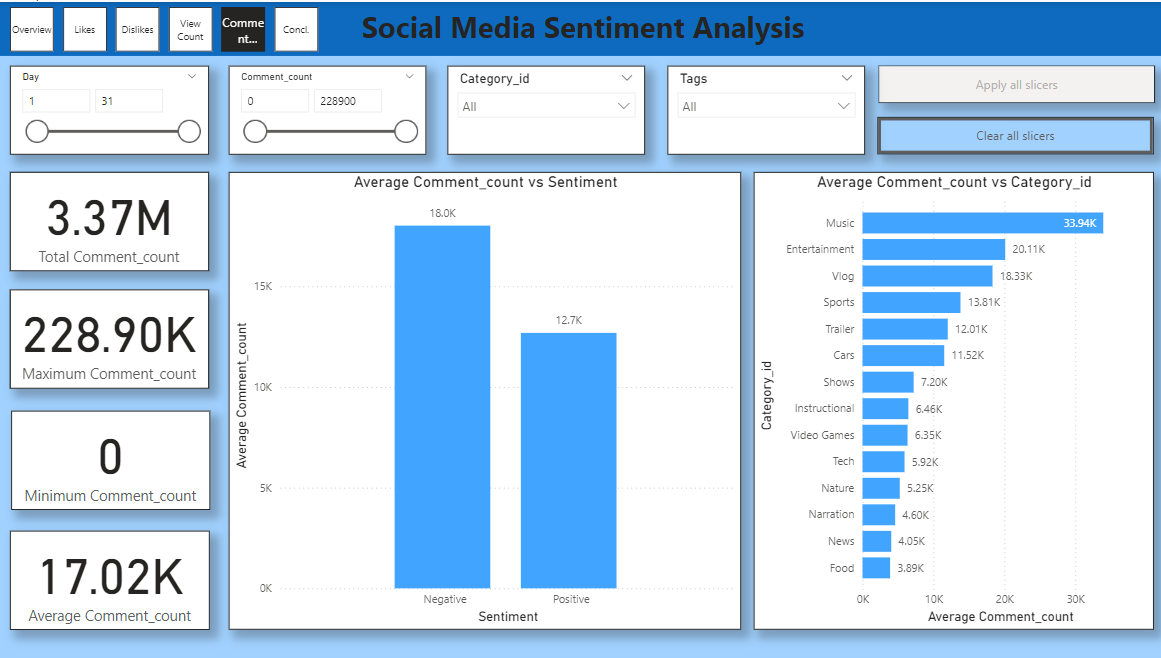

The page's visual inventory and layout, read from the dashboard file:
{"tool":"powerbi","page":{"name":"Comment Count","canvas":[1280,720],"ordinal":4},"visuals":[{"type":"shape","box":[0,0,1280.3,59],"z":0},{"type":"textbox","box":[0,0,1280.3,59],"z":1000},{"type":"slicer","fields":{"Values":["gold_df (2).Published_at.Variation.Date Hierarchy.Day"]},"box":[11,70,218.2,97.4],"z":2000},{"type":"card","fields":{"Values":["Avg(gold_df (2).Comment_count)"]},"box":[11,580.4,219.6,108.4],"z":3000},{"type":"card","fields":{"Values":["Sum(gold_df (2).Comment_count)"]},"box":[11,186.6,218.2,108.4],"z":4000},{"type":"card","fields":{"Values":["Min(gold_df (2).Comment_count)"]},"box":[12.3,448.7,218.2,108.4],"z":5000},{"type":"card","fields":{"Values":["Max(gold_df (2).Comment_count)"]},"box":[11,315.6,218.2,108.4],"z":6000},{"type":"pageNavigator","box":[11,5.5,341.7,49.4],"z":7000},{"type":"slicer","fields":{"Values":["gold_df (2).Comment_count"]},"box":[251.1,70,216.8,97.4],"z":8000},{"type":"clusteredColumnChart","title":"Average Comment_count vs Sentiment","fields":{"Category":["gold_df (2).Sentiment"],"Y":["Avg(gold_df (2).Comment_count)"]},"box":[251.1,186.6,562.6,502.2],"z":9000},{"type":"clusteredBarChart","title":"Average Comment_count vs Category_id","fields":{"Y":["Avg(gold_df (2).Comment_count)"],"Category":["gold_df (2).Category_id"]},"box":[827.4,186.6,439.1,502.2],"z":10000},{"type":"actionButton","box":[964.7,70,303.3,41.2],"z":11000},{"type":"actionButton","box":[963.3,126.2,303.3,41.2],"z":12000},{"type":"slicer","fields":{"Values":["gold_df (2).Category_id"]},"box":[491.3,70,216.8,97.4],"z":13000},{"type":"slicer","fields":{"Values":["gold_df (2).Tags"]},"box":[732.8,70,216.8,97.4],"z":14000}]}

Visuals, with their boxes on the page's 1280x720 design canvas (x1, y1, x2, y2). These are canvas units, not pixel positions in the 1161x658 screenshot, which may show the page scaled, cropped or inside an application window:
shape: (0, 0, 1280, 59)
textbox: (0, 0, 1280, 59)
slicer - gold_df (2).Published_at.Variation.Date Hierarchy.Day: (11, 70, 229, 167)
card - Avg(gold_df (2).Comment_count): (11, 580, 231, 689)
card - Sum(gold_df (2).Comment_count): (11, 187, 229, 295)
card - Min(gold_df (2).Comment_count): (12, 449, 230, 557)
card - Max(gold_df (2).Comment_count): (11, 316, 229, 424)
pageNavigator: (11, 6, 353, 55)
slicer - gold_df (2).Comment_count: (251, 70, 468, 167)
"Average Comment_count vs Sentiment" clusteredColumnChart: (251, 187, 814, 689)
"Average Comment_count vs Category_id" clusteredBarChart: (827, 187, 1266, 689)
actionButton: (965, 70, 1268, 111)
actionButton: (963, 126, 1267, 167)
slicer - gold_df (2).Category_id: (491, 70, 708, 167)
slicer - gold_df (2).Tags: (733, 70, 950, 167)
